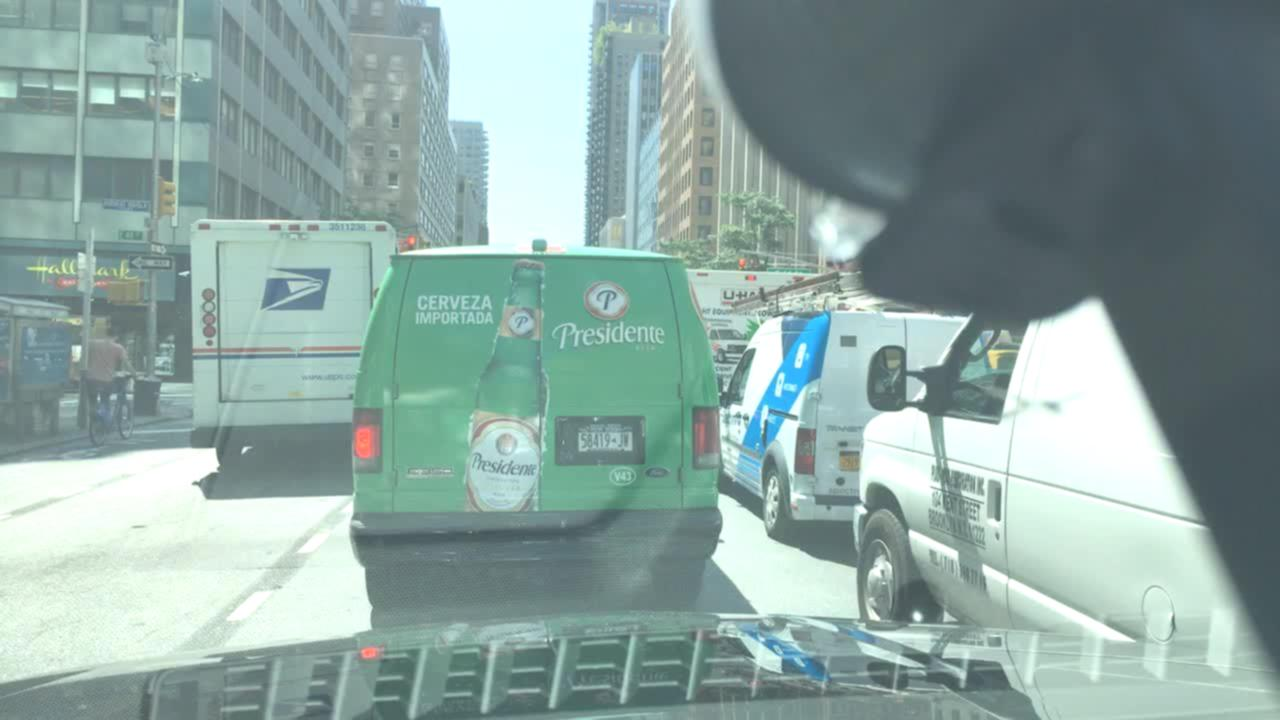ford: (642, 465, 671, 481)
